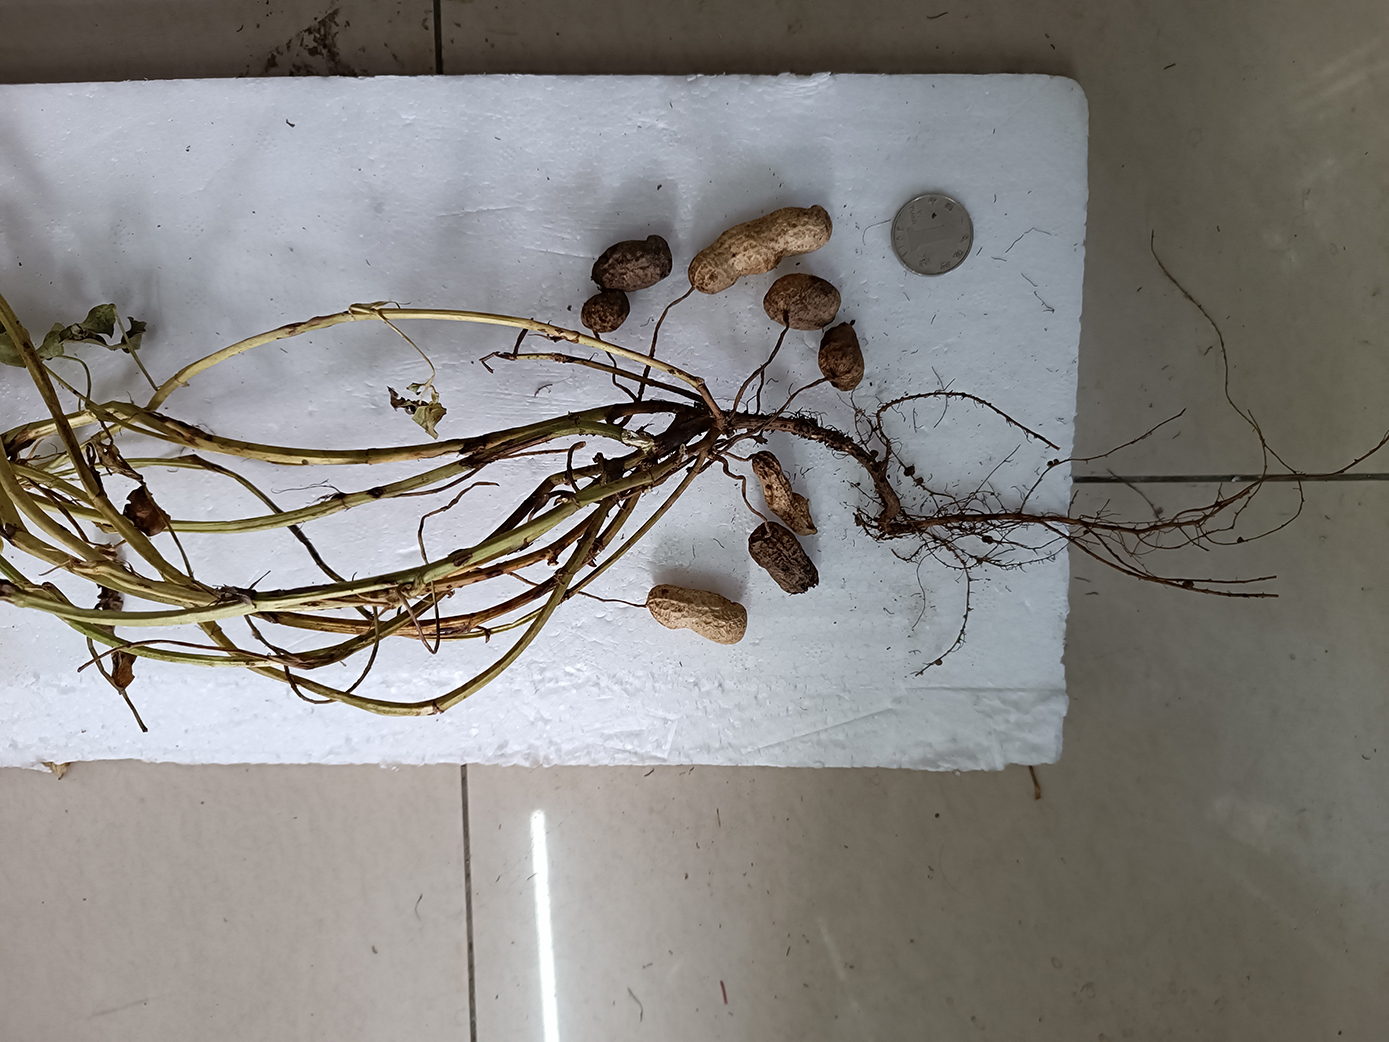h: (688, 206, 833, 293), (647, 584, 746, 645)
l: (752, 452, 818, 536), (746, 522, 820, 594), (590, 233, 674, 290), (763, 275, 843, 331), (819, 323, 865, 391), (581, 287, 628, 331)
